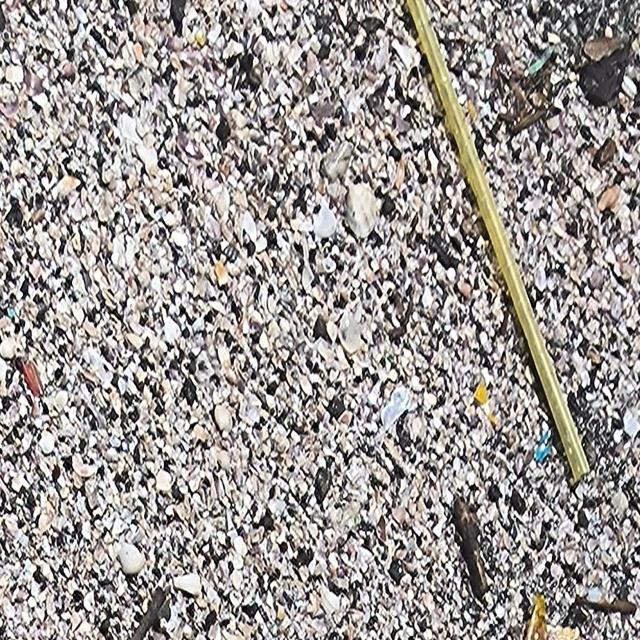plastic_waste: (404, 1, 593, 485)
